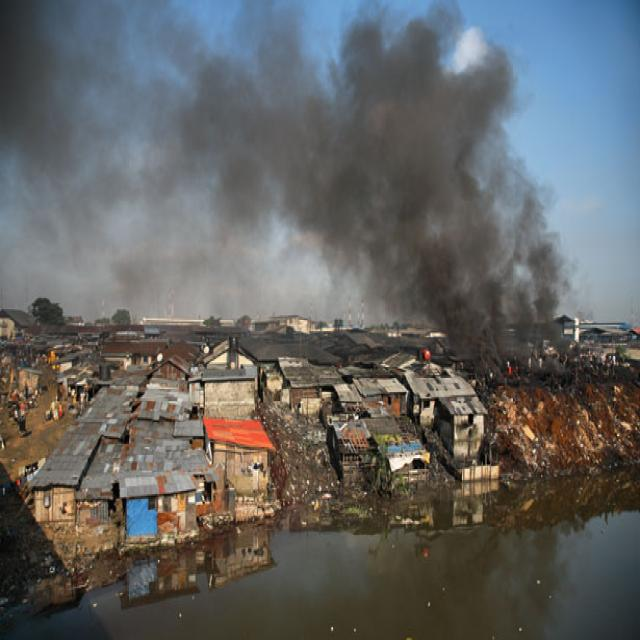smoke: (31, 29, 364, 306), (387, 42, 524, 334)
